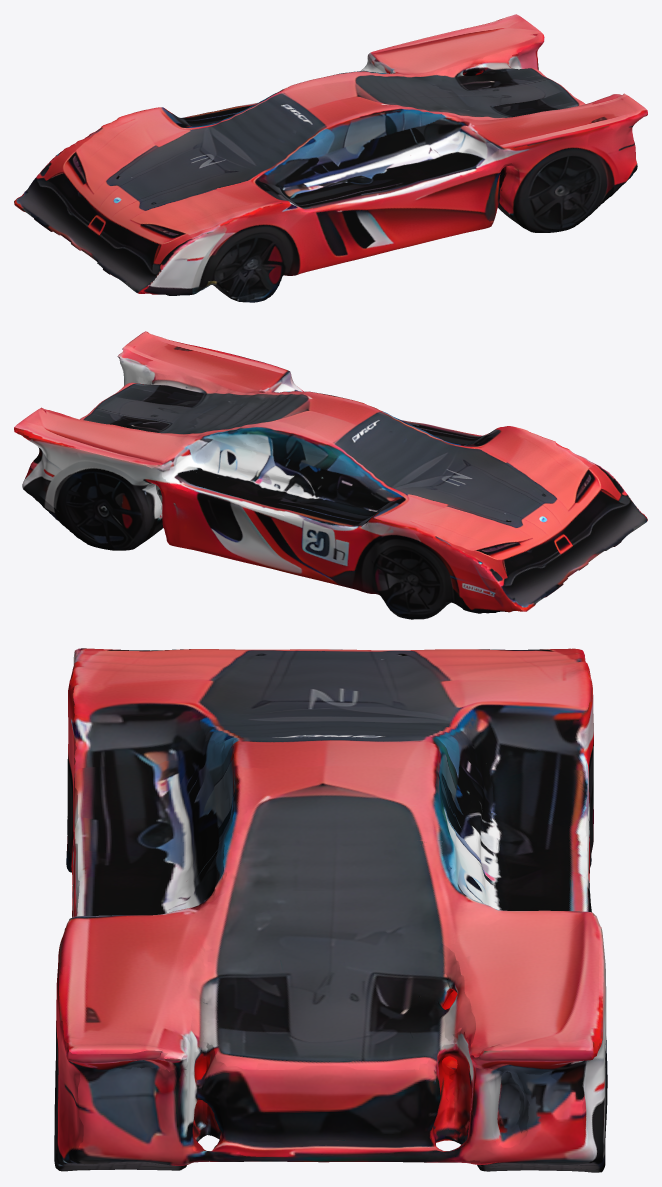
Rendered from sports_car.glb.
3 views of the same model, one above another, from view 1: azimuth 30°, elevation 25°; view 2: azimuth 150°, elevation 25°; view 3: azimuth 270°, elevation 25° (orthographic). The views are drawn at different scales.
Parts seen in each view (by area): view 1: model_0; view 2: model_0; view 3: model_0.
Boxes of the visible parts, box(x1,y1,x2,y2) form: model_0: box(14, 14, 647, 302); model_0: box(14, 331, 647, 619); model_0: box(54, 648, 607, 1172).
Size of the model in its own units: 1 by 0.2296 by 0.4717.
Materials: 1 (1 with a texture image).
